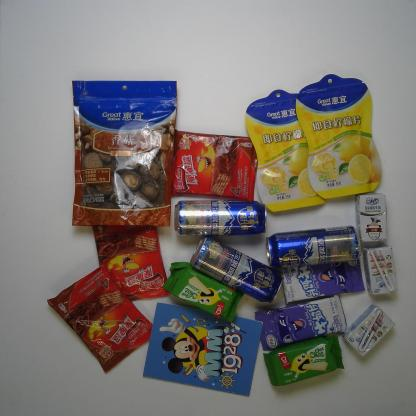Alcohol: (190, 236, 285, 304), (263, 223, 360, 271), (171, 198, 267, 237)
Candy: (254, 295, 346, 352), (279, 255, 366, 303)
Dessert: (47, 264, 154, 373), (167, 126, 258, 200), (89, 220, 170, 301), (160, 258, 244, 321), (262, 335, 345, 387)
Dried Food: (70, 79, 178, 228)
Dried Fruit: (295, 72, 384, 200), (244, 89, 330, 213)
Milk: (342, 303, 394, 358), (360, 243, 398, 298), (354, 192, 388, 244)
Stationery: (141, 300, 262, 398)
